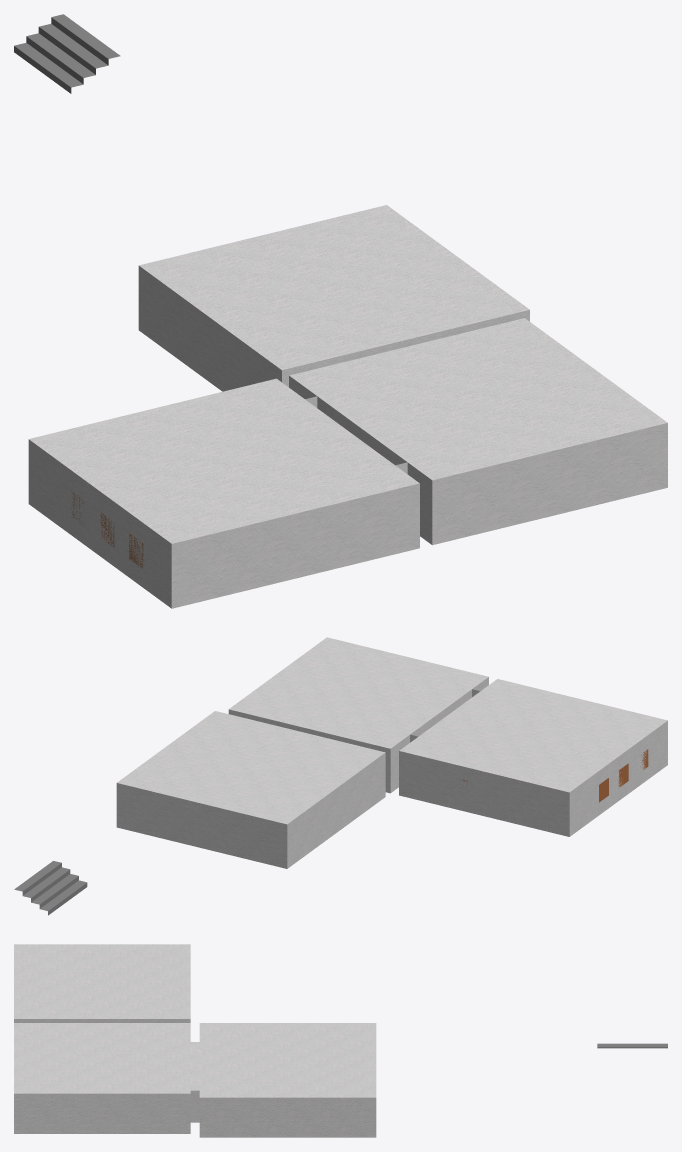
The model's file is museum.fbx.
3 views of the same model, one above another, from view 1: azimuth 30°, elevation 25°; view 2: azimuth 150°, elevation 25°; view 3: azimuth 270°, elevation 25° (orthographic). The views are drawn at different scales.
Visible parts, largest first — view 1: Edifice, Stairs.006; view 2: Edifice, Stairs.006; view 3: Edifice, Stairs.006.
Boxes of the visible parts, <box> form: Edifice: <box>28,205,667,608</box>; Stairs.006: <box>14,14,120,93</box>; Edifice: <box>116,637,667,868</box>; Stairs.006: <box>14,861,87,915</box>; Edifice: <box>14,944,376,1137</box>; Stairs.006: <box>597,1043,667,1048</box>.
Bounding box in the file's own units: 41 × 8 × 74.
7 materials, 6 textured.
